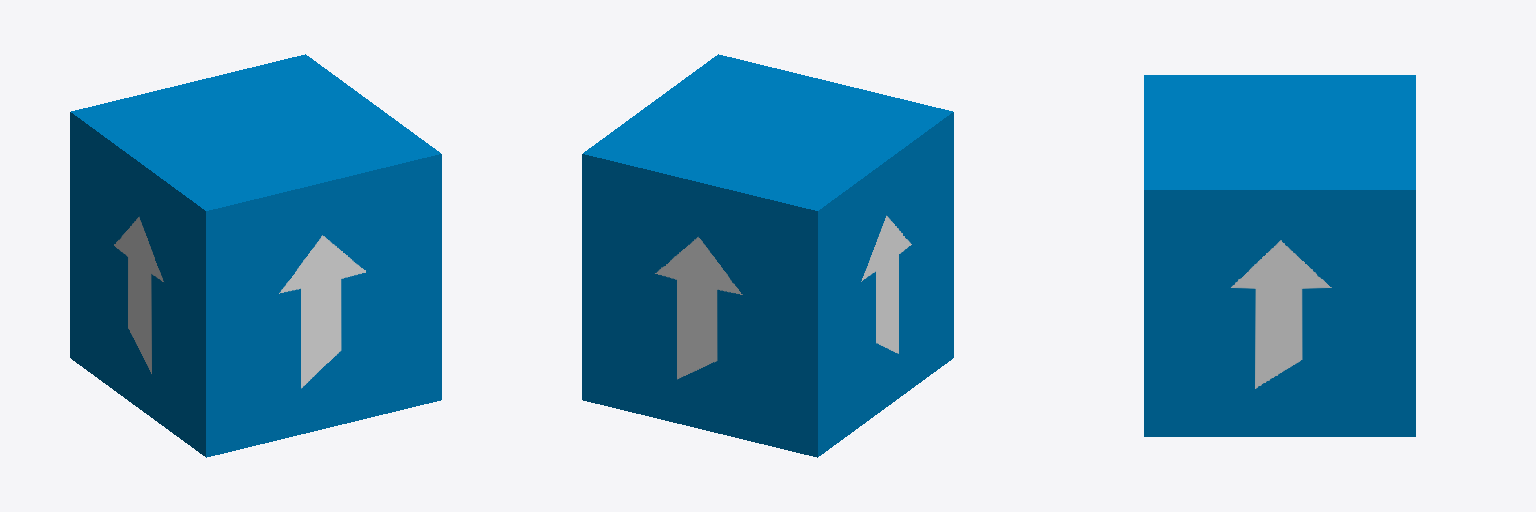
3 renders of one model, left to right at view 1: azimuth 30°, elevation 25°; view 2: azimuth 150°, elevation 25°; view 3: azimuth 270°, elevation 25°, orthographic.
Parts seen in each view (by area): view 1: Cube; view 2: Cube; view 3: Cube.
Boxes of the visible parts, x1=… form: Cube: x1=70, y1=54, x2=441, y2=457; Cube: x1=582, y1=54, x2=953, y2=457; Cube: x1=1144, y1=75, x2=1415, y2=436.
Bounding box in the file's own units: 2 × 2 × 2.
1 materials, 1 textured.